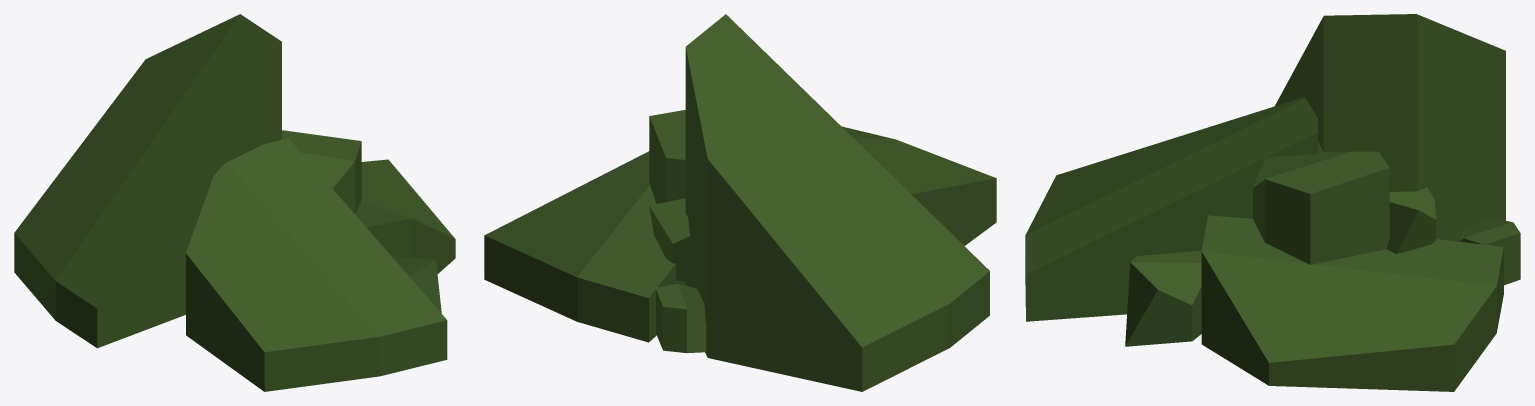
File: lp_Rock_Type5_02_mesh_001_Cube_022.obj
3 renders of one model, left to right at view 1: azimuth 30°, elevation 25°; view 2: azimuth 150°, elevation 25°; view 3: azimuth 270°, elevation 25°, orthographic. The views are drawn at different scales.
Visible parts, largest first — view 1: lp_Rock_Type5_02_mesh_001_Cube_022; view 2: lp_Rock_Type5_02_mesh_001_Cube_022; view 3: lp_Rock_Type5_02_mesh_001_Cube_022.
Boxes of the visible parts, left/top/right/bottom form: lp_Rock_Type5_02_mesh_001_Cube_022: left=14, top=14, right=455, bottom=391; lp_Rock_Type5_02_mesh_001_Cube_022: left=484, top=14, right=996, bottom=391; lp_Rock_Type5_02_mesh_001_Cube_022: left=1025, top=14, right=1520, bottom=391.
Bounding box in the file's own units: 5.76 × 3.52 × 5.53.
